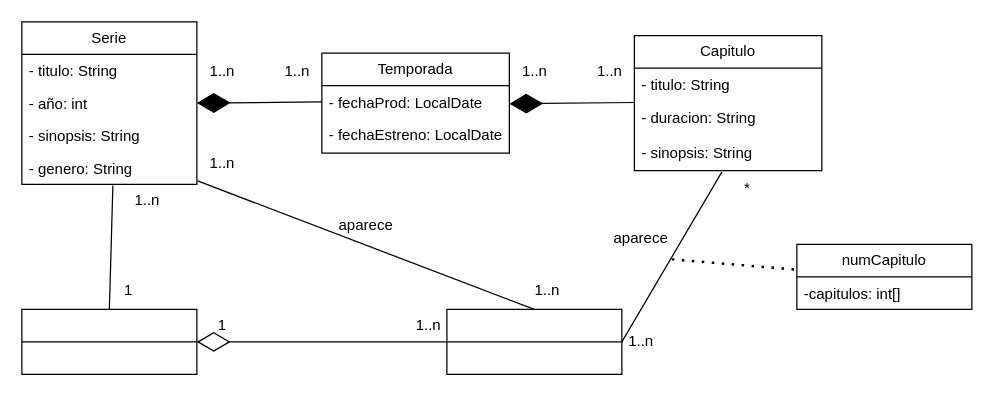
Some shapes in this 994 by 396 pixel diagram are drawn without their labels. The shapes that lost their labels are listed below. From the top down, each one's centre as x and y in pixels, then its label:
[109,341]: Actor
[534,341]: Personaje
